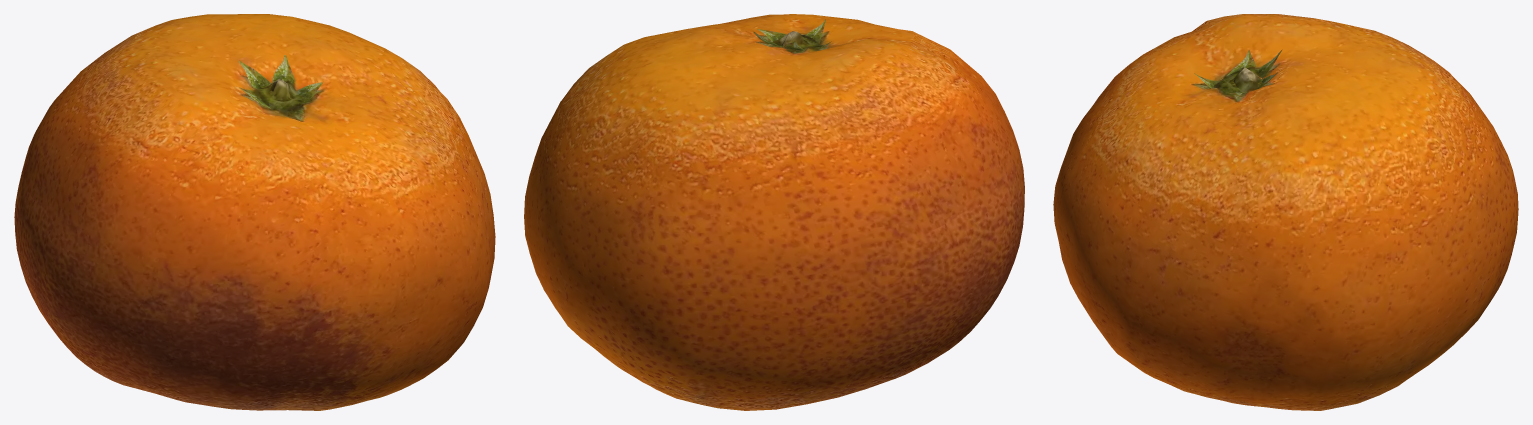
The model's file is tangerine-transformed.glb.
3 renders of one model, left to right at view 1: azimuth 30°, elevation 25°; view 2: azimuth 150°, elevation 25°; view 3: azimuth 270°, elevation 25°, orthographic. The views are drawn at different scales.
Parts seen in each view (by area): view 1: Object_2; view 2: Object_2; view 3: Object_2.
Part boxes in pixels (left/top/right/bottom): Object_2: left=14, top=14, right=495, bottom=410; Object_2: left=524, top=14, right=1024, bottom=410; Object_2: left=1053, top=14, right=1518, bottom=410.
Bounding box in the file's own units: 0.4906 × 0.3587 × 0.4918.
Materials: 1 (1 with a texture image).
